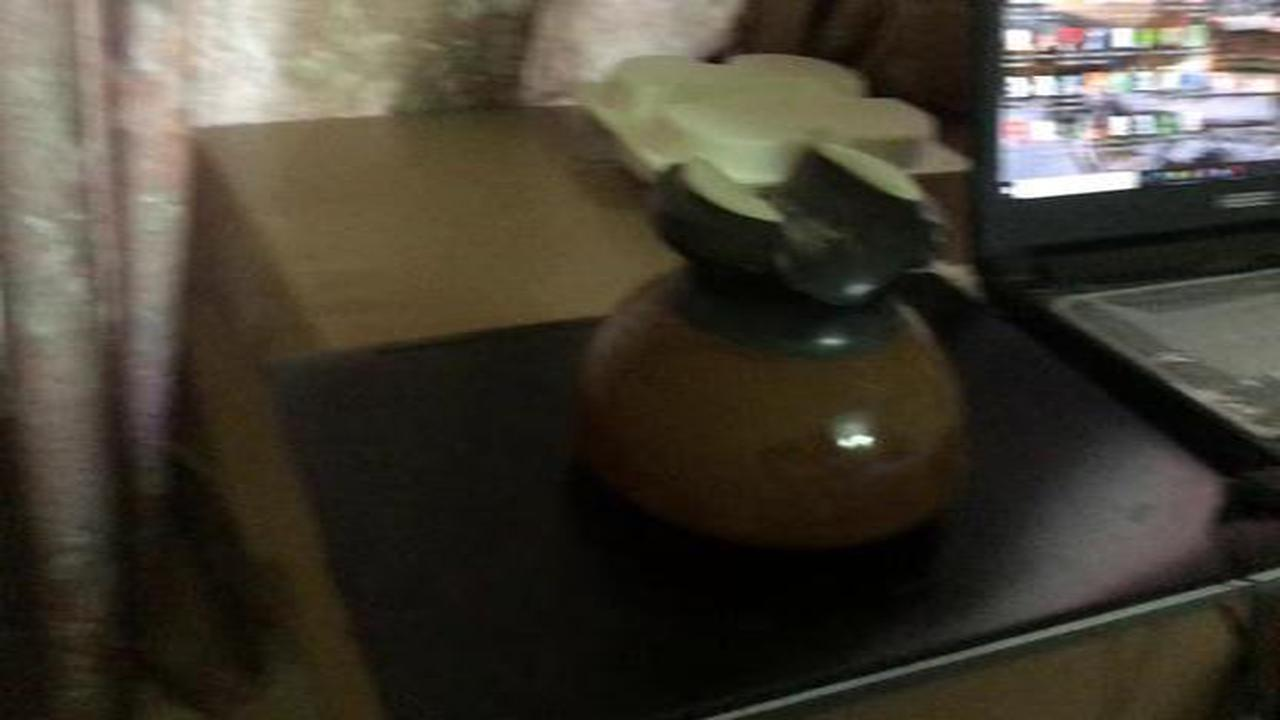insulator_pin: (561, 129, 994, 563)
